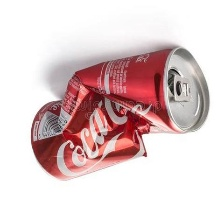can: (25, 43, 213, 185)
